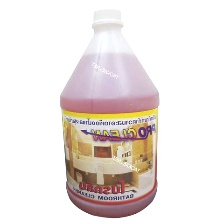cleaning_solution: (58, 6, 162, 219)
